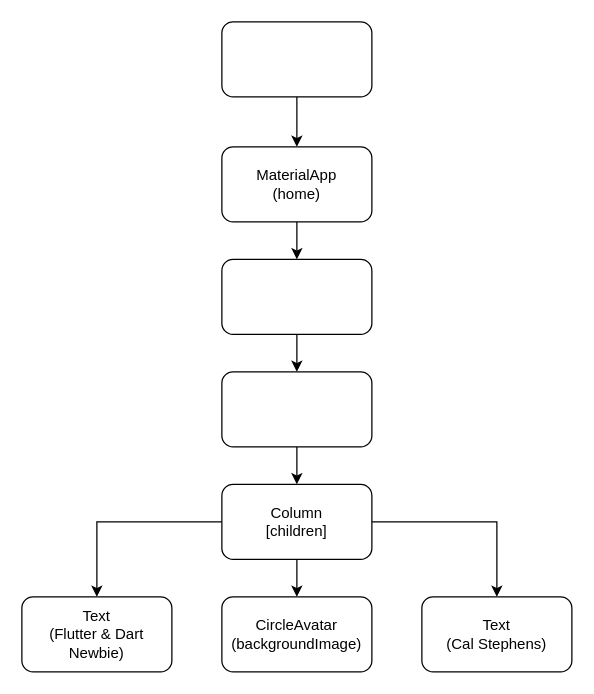
This 594x694 diagram has some shape labels left out. Here are the shapes that lost their labels. From the top down, the centre of each, then its label:
(x=296, y=59): MyApp
(x=296, y=296): Scaffold (body)
(x=296, y=409): SafeArea (child)
